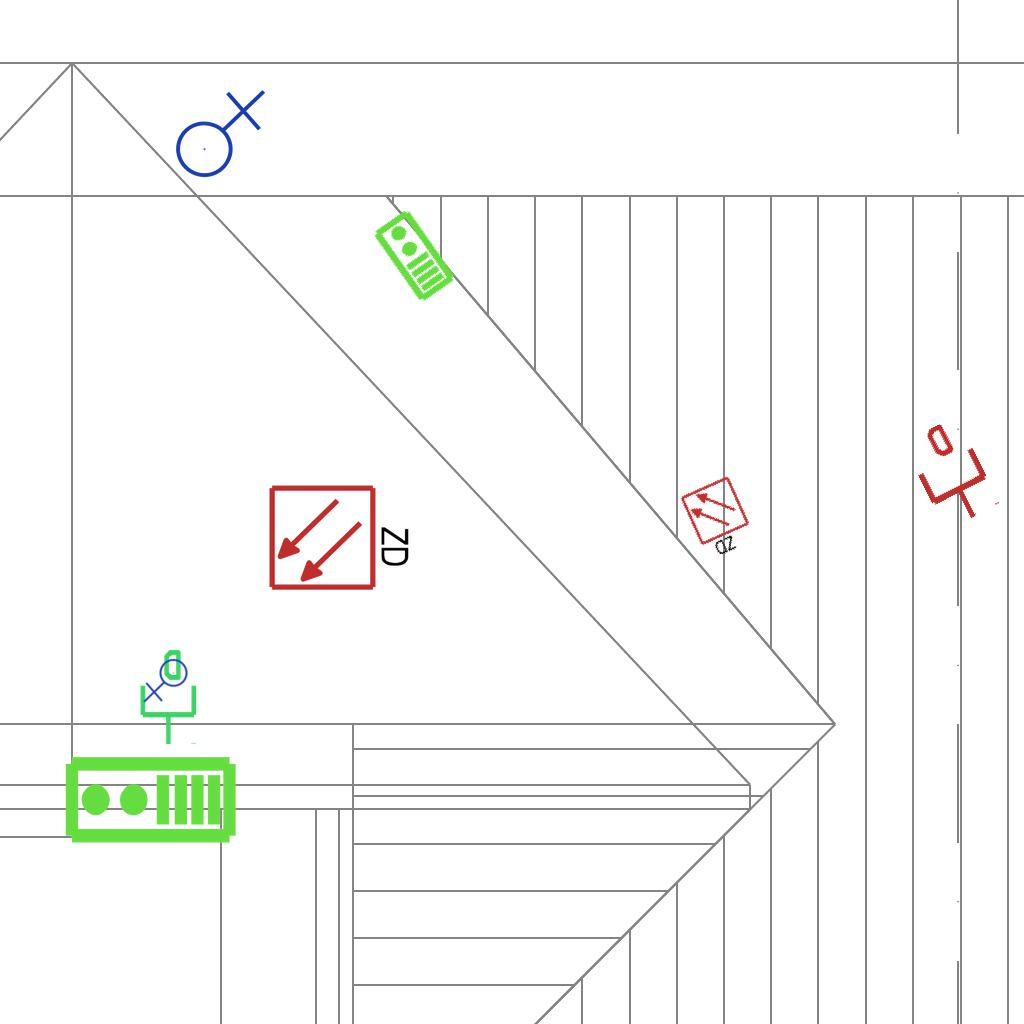Datenanschluss_einfach: (898, 413, 1005, 535), (132, 647, 201, 747)
Elektroanschluss_allgemein_230V_Geraeteanschlussdose_230V: (167, 85, 266, 179), (143, 658, 192, 705)
Gegensprechanlage_mit_Video: (62, 754, 238, 849), (369, 206, 458, 306)
ZD_Melder_in_Zwischendecke_mit_Revisionsoeffnung_mind_40_x_40_cm: (267, 479, 416, 593), (678, 473, 761, 565)
